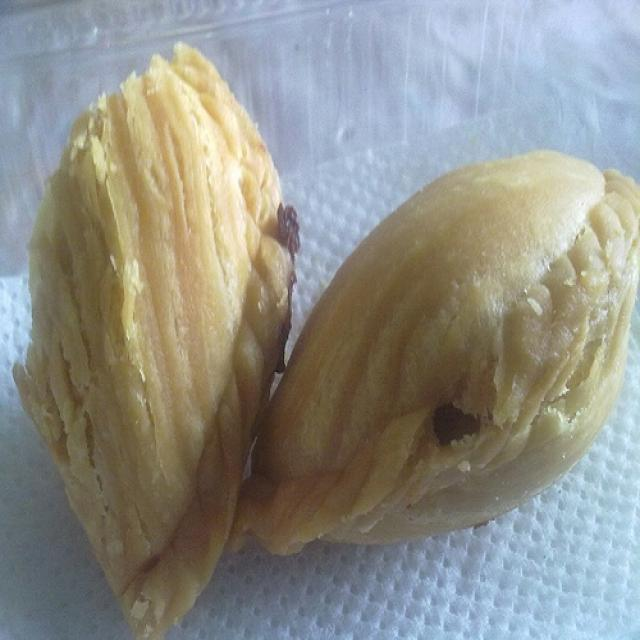炸货点心: (33, 36, 626, 609)
